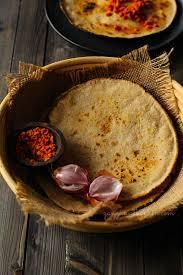bhakri: (51, 78, 169, 183), (62, 0, 166, 46)
